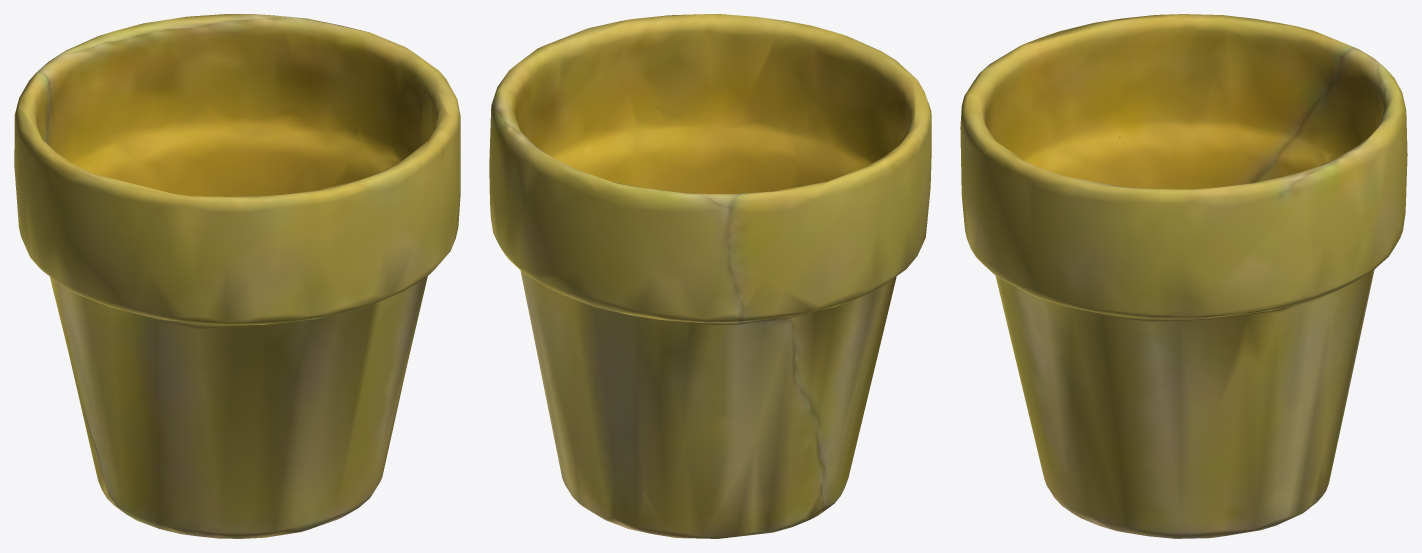
Rendered from Pennington_Electric_Pot_Cabana_4-medium.glb.
3 views of the same model, side by side, from view 1: azimuth 30°, elevation 25°; view 2: azimuth 150°, elevation 25°; view 3: azimuth 270°, elevation 25° (orthographic).
Parts seen in each view (by area): view 1: Pennington_Electric_Pot_Cabana_4; view 2: Pennington_Electric_Pot_Cabana_4; view 3: Pennington_Electric_Pot_Cabana_4.
Boxes of the visible parts, x1,y1,x2,y2 form: Pennington_Electric_Pot_Cabana_4: (14,14,460,538); Pennington_Electric_Pot_Cabana_4: (489,14,931,538); Pennington_Electric_Pot_Cabana_4: (960,14,1407,538).
Bounding box in the file's own units: 0.1035 × 0.0978 × 0.1034.
1 material, 1 textured.
